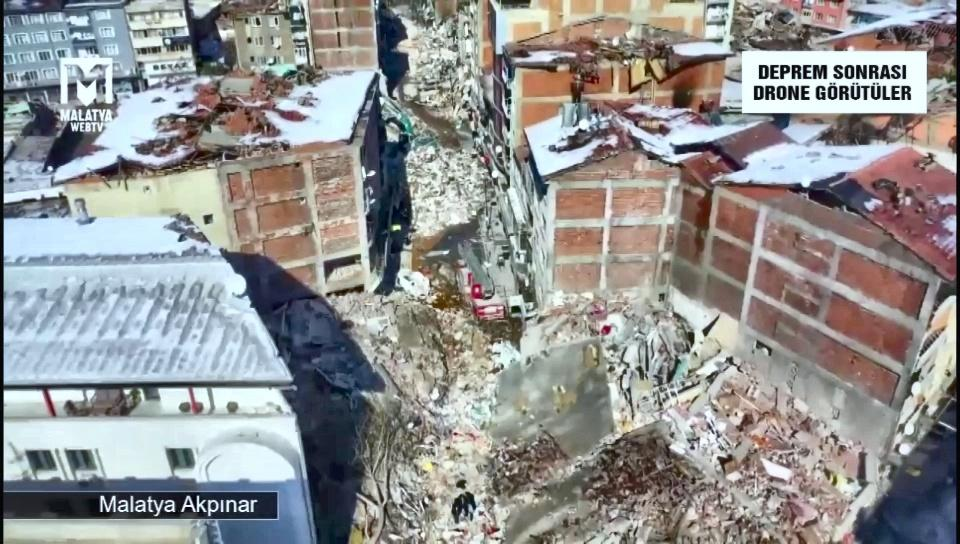kapali: (372, 246, 564, 543), (406, 131, 492, 244), (399, 12, 470, 120)
